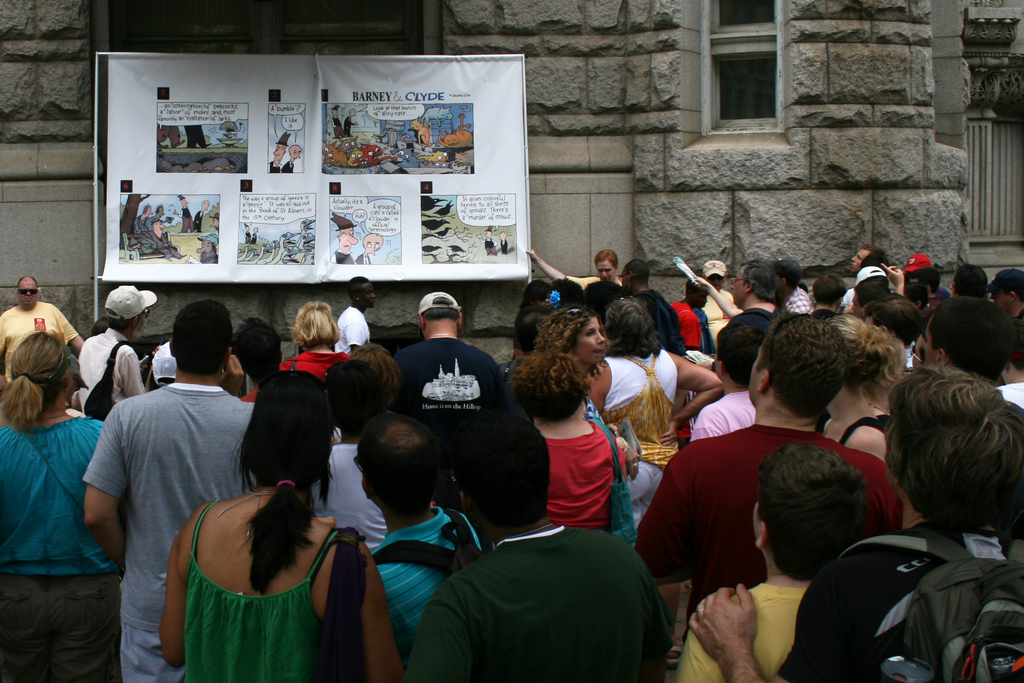Human-face: (572, 315, 606, 366), (17, 279, 39, 307), (360, 282, 376, 308), (600, 261, 616, 279)
